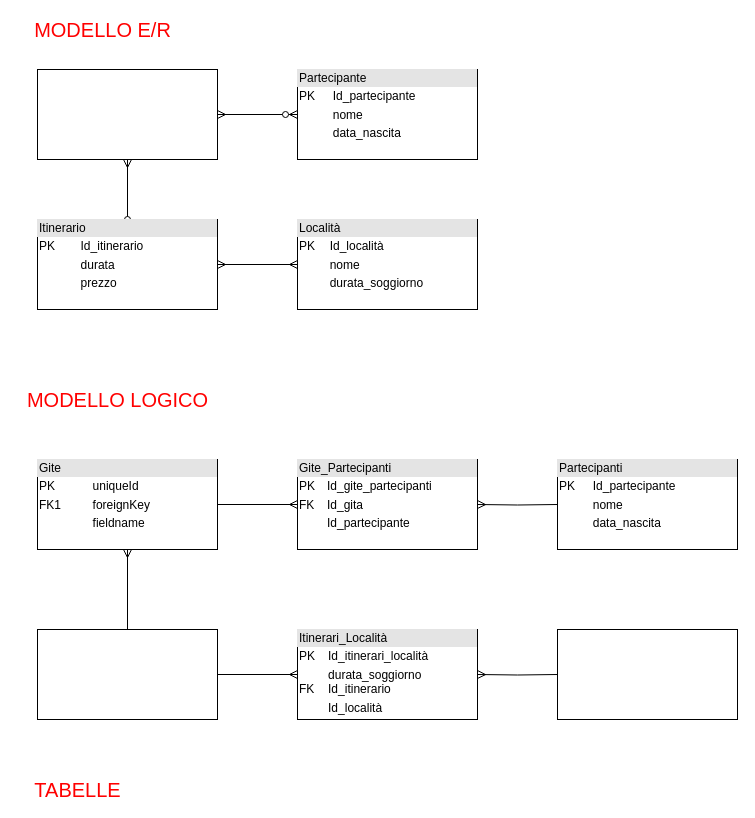
This 755x818 diagram has some shape labels left out. Each missing label, with the centre of its shape:
"Gita PK Id_gita responsabile data_partenza" belongs at (127,114).
"Itinerari PK Id_itinerario durata prezzo" belongs at (127,674).
"Località PK Id_località nome" belongs at (647,674).
